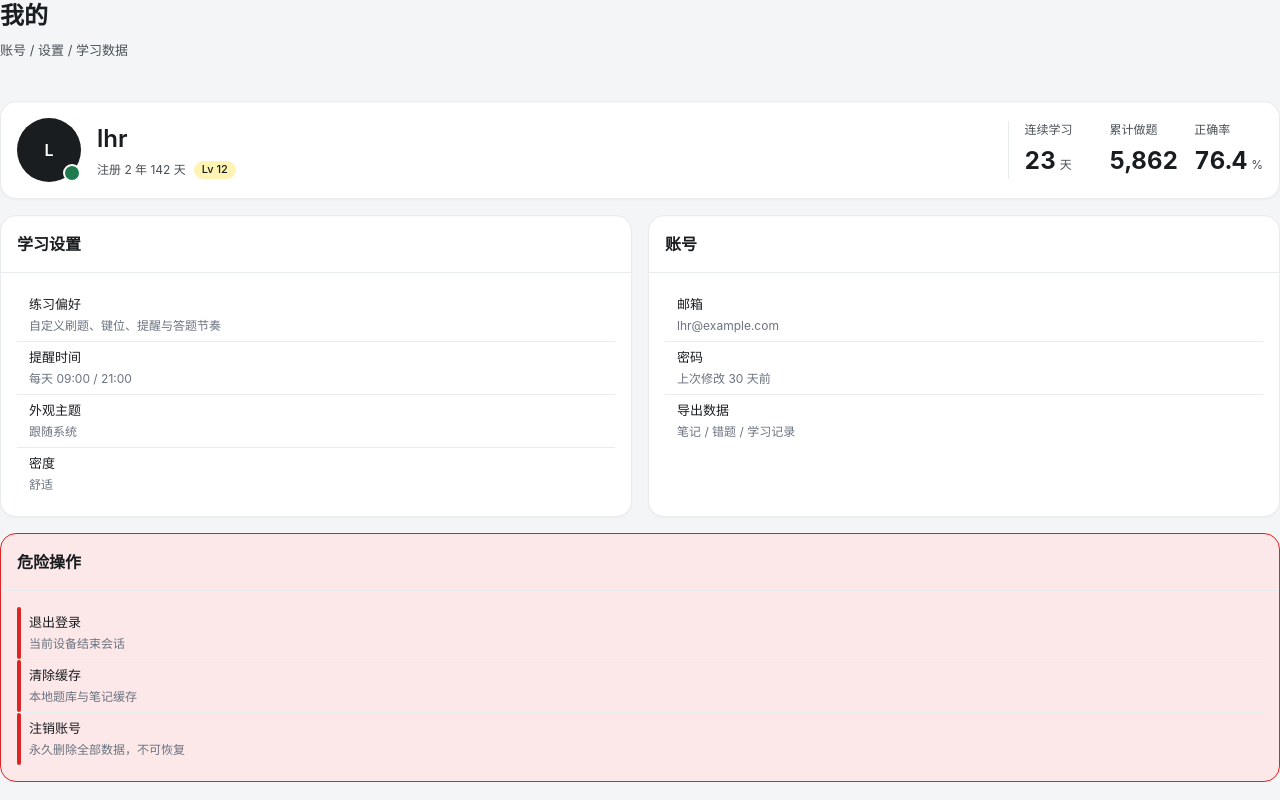
Test: Me view (D.4.4) › clicking 注销账号 opens the destructive confirm dialog
This screenshot has width=1280, height=800.
Step 1. Click the button "注销账号 永久删除全部数据，不可恢复" → (55, 728), box [17, 712, 1263, 764]
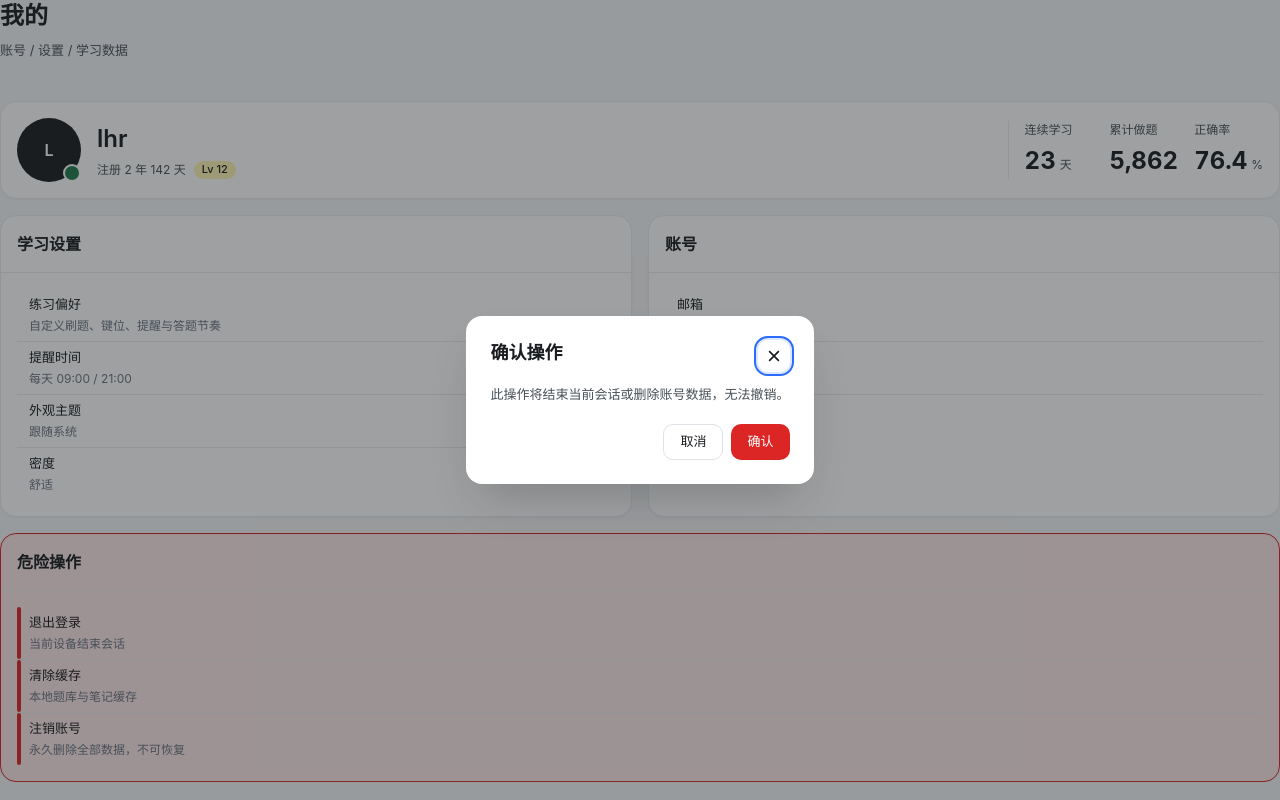
Result: the heading "确认操作" is shown at [490, 342, 562, 363]
